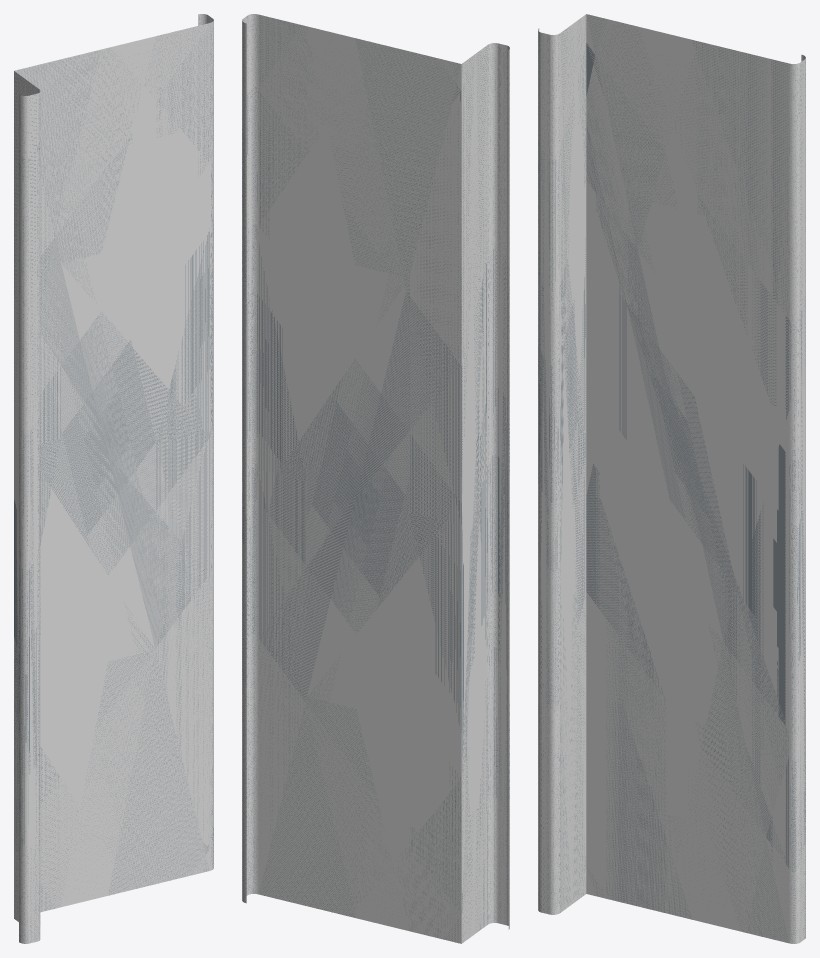
Rendered from PW_CornerFixElem_os_T2_035x110x010x400.dae.
3 renders of one model, left to right at view 1: azimuth 30°, elevation 25°; view 2: azimuth 150°, elevation 25°; view 3: azimuth 330°, elevation 25°, orthographic. The views are drawn at different scales.
Parts seen in each view (by area): view 1: group_0; view 2: group_0; view 3: group_0.
Part boxes in pixels (x1,y1,x2,y2): group_0: (14, 14, 213, 943); group_0: (242, 14, 509, 943); group_0: (538, 14, 805, 943).
Size of the model in its own units: 43.31 by 13.78 by 157.
